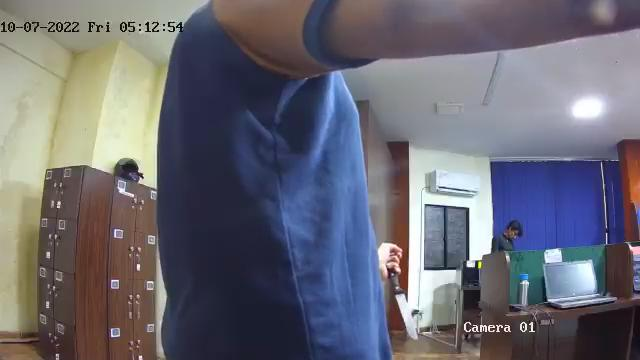knives: (384, 271, 418, 337)
